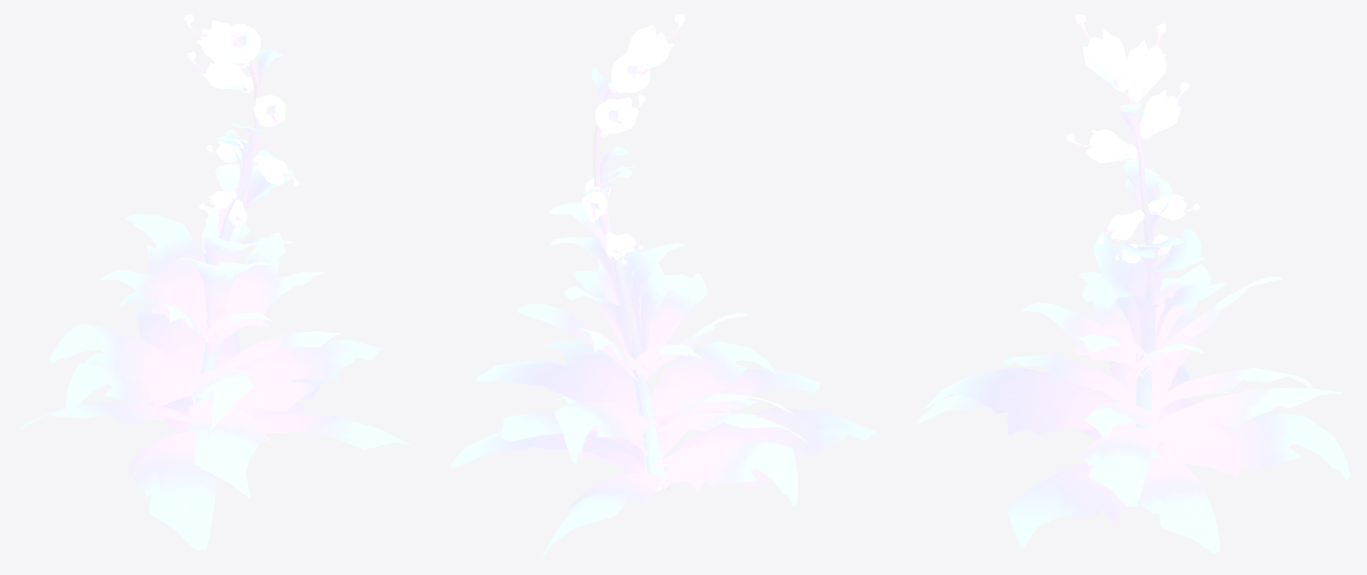
The picture shows the model from 3 angles, left to right: view 1: azimuth 30°, elevation 25°; view 2: azimuth 150°, elevation 25°; view 3: azimuth 270°, elevation 25°; orthographic projection. The views are drawn at different scales.
Parts seen in each view (by area): view 1: SM_FH_Fox_Glove_01_LOD0; view 2: SM_FH_Fox_Glove_01_LOD0; view 3: SM_FH_Fox_Glove_01_LOD0.
Part boxes in pixels (box(x1,y1,x2,y2)): SM_FH_Fox_Glove_01_LOD0: box(18, 14, 410, 550); SM_FH_Fox_Glove_01_LOD0: box(451, 14, 876, 555); SM_FH_Fox_Glove_01_LOD0: box(917, 14, 1349, 553).
Size of the model in its own units: 0.4381 by 0.536 by 0.4591.
Materials: 1 (1 with a texture image).
